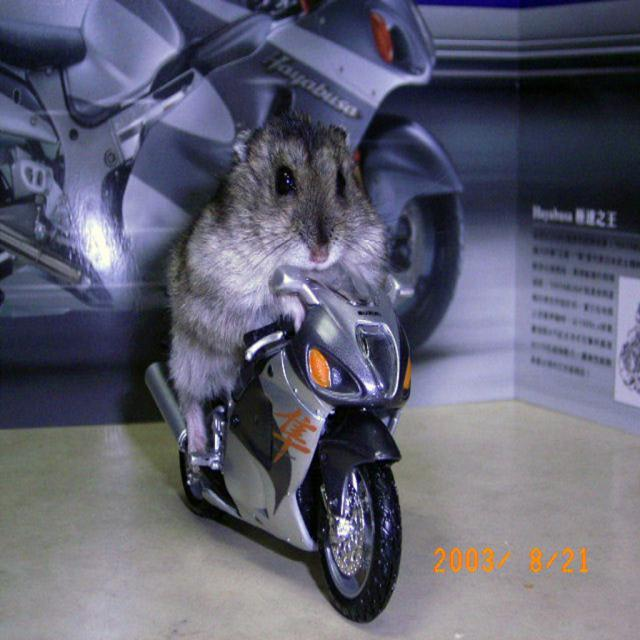bus: (2, 0, 464, 352), (147, 193, 432, 612)
